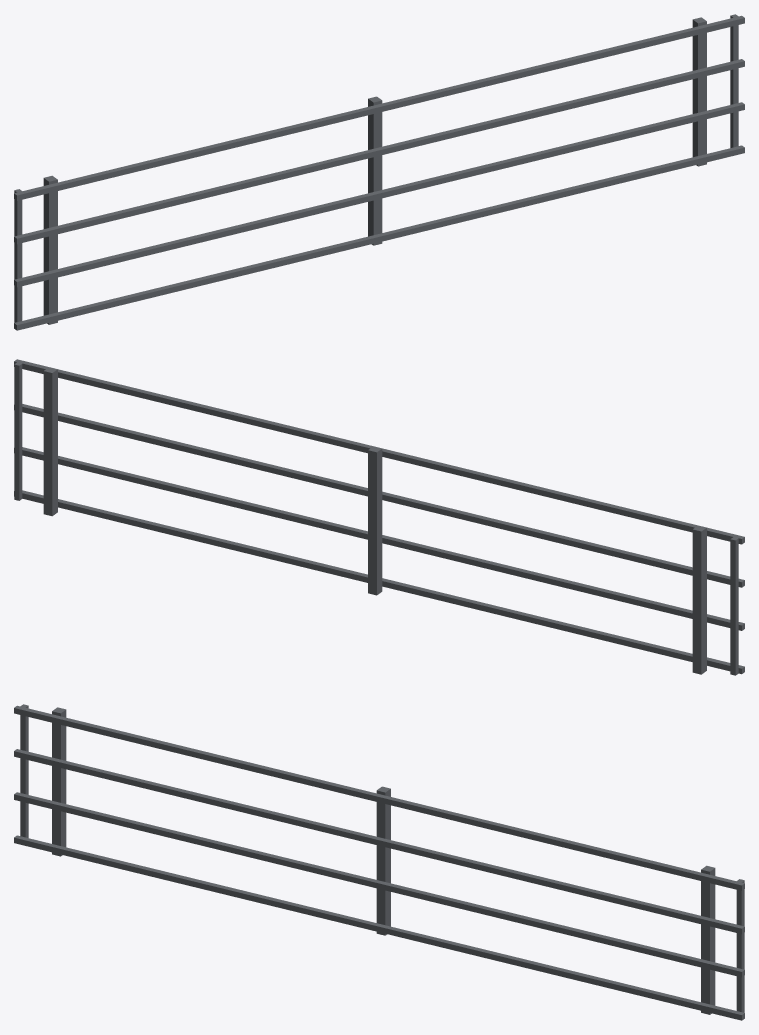
File: SM_Sign_Backing_Long_06.obj
3 views of the same model, one above another, from view 1: azimuth 30°, elevation 25°; view 2: azimuth 150°, elevation 25°; view 3: azimuth 330°, elevation 25° (orthographic).
Parts seen in each view (by area): view 1: SM_Sign_Backing_Long_06_0; view 2: SM_Sign_Backing_Long_06_0; view 3: SM_Sign_Backing_Long_06_0.
Boxes of the visible parts, x1,y1,x2,y2 form: SM_Sign_Backing_Long_06_0: (14,14,744,330); SM_Sign_Backing_Long_06_0: (14,359,744,675); SM_Sign_Backing_Long_06_0: (14,704,744,1020).
Size of the model in its own units: 7.85 by 1.48 by 0.1583.
1 material, 1 textured.
